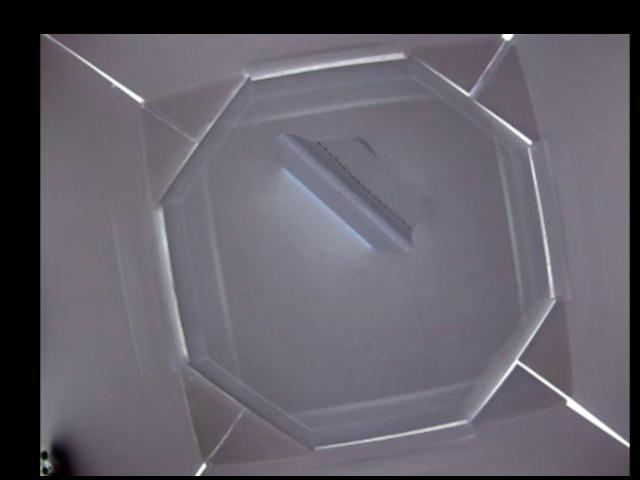China: (276, 126, 426, 256)
